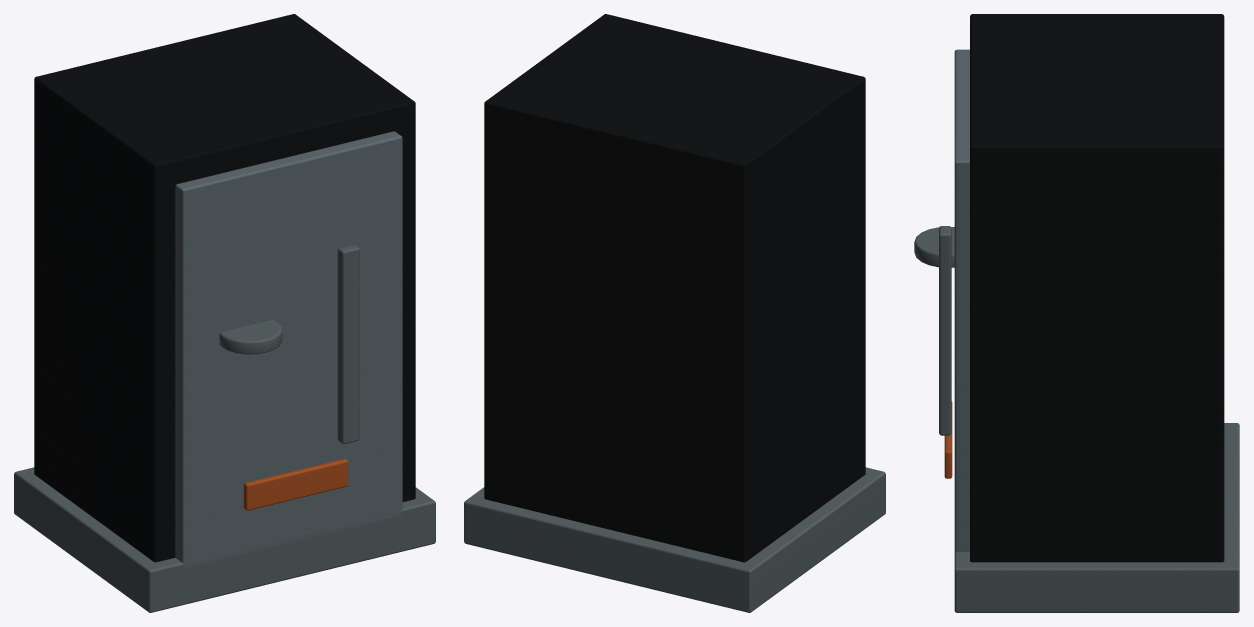
File: SecureStorageSafe.fbx
3 views of the same model, side by side, from view 1: azimuth 30°, elevation 25°; view 2: azimuth 150°, elevation 25°; view 3: azimuth 270°, elevation 25° (orthographic). The views are drawn at different scales.
Parts seen in each view (by area): view 1: SecureStorageSafe_Mesh; view 2: SecureStorageSafe_Mesh; view 3: SecureStorageSafe_Mesh.
Part boxes in pixels (x1,y1,x2,y2): SecureStorageSafe_Mesh: [14, 14, 435, 612]; SecureStorageSafe_Mesh: [464, 14, 885, 612]; SecureStorageSafe_Mesh: [914, 14, 1239, 612].
Bounding box in the file's own units: 112 × 164 × 105.
